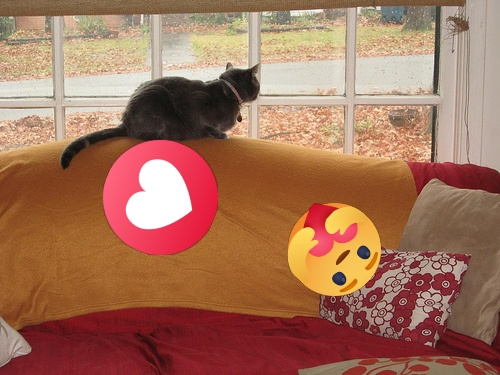care: (288, 203, 381, 296)
love: (103, 140, 218, 255)
